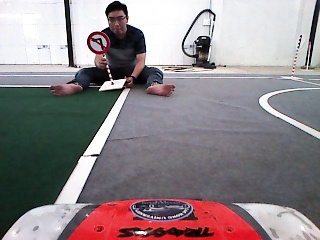ban_left: (87, 31, 110, 55)
